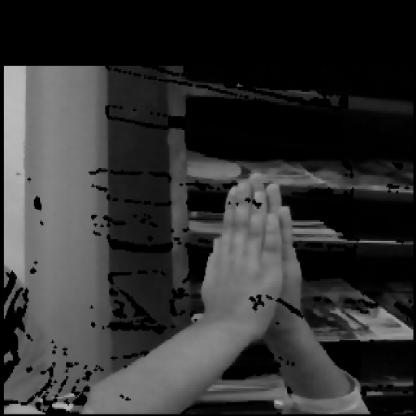namaste: (160, 154, 330, 367)
